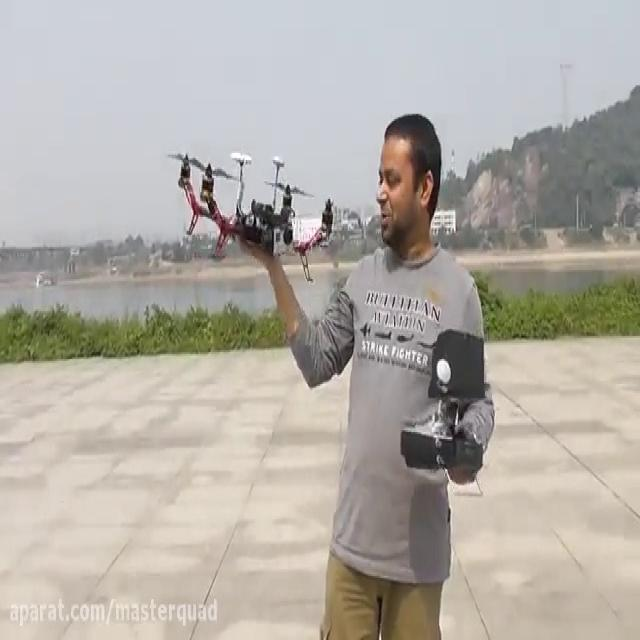drone: (164, 140, 339, 282)
